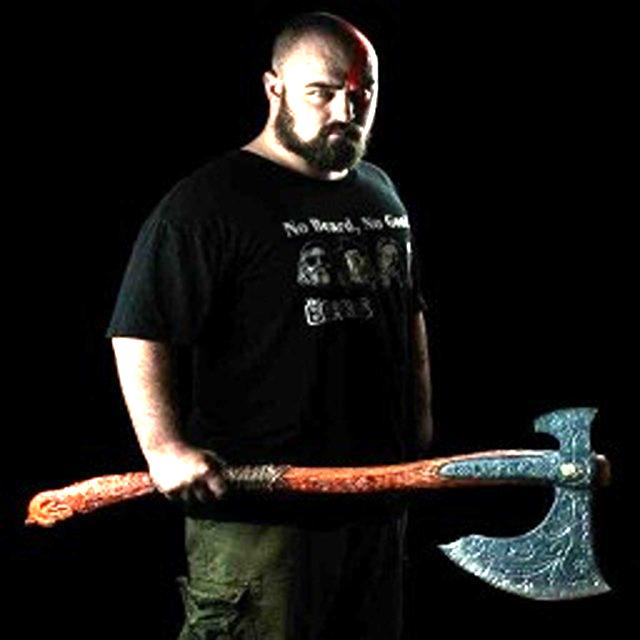ax: (23, 401, 623, 623)
